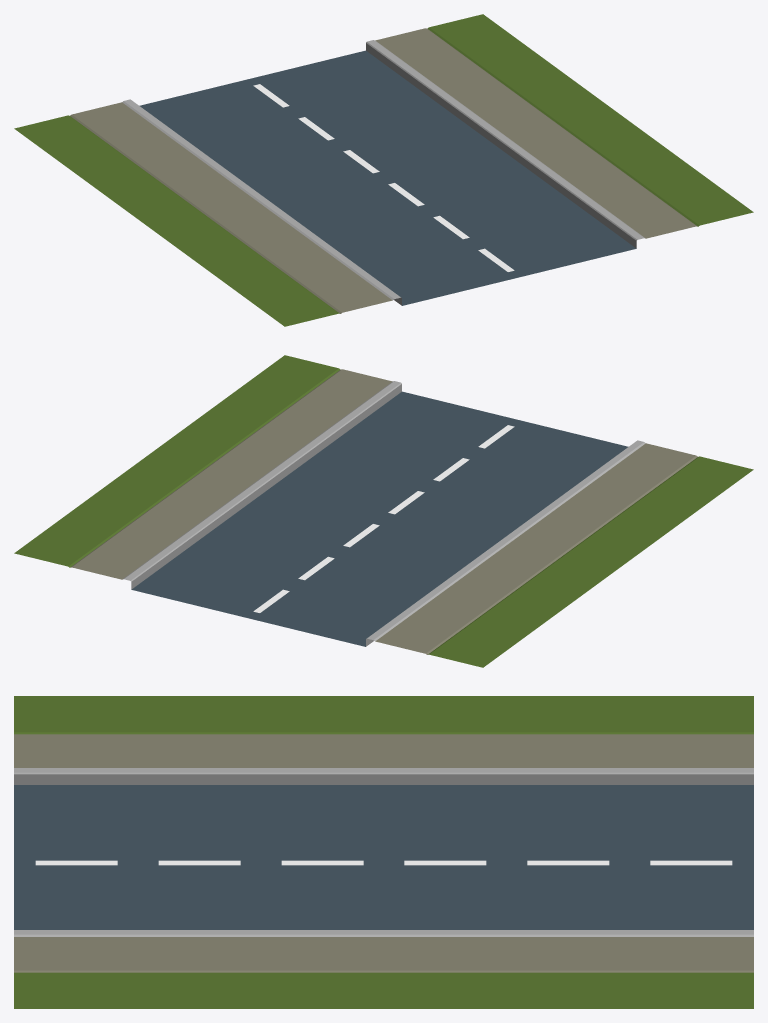
Rendered from Road Straight.fbx.
3 renders of one model, top to bottom at view 1: azimuth 30°, elevation 25°; view 2: azimuth 150°, elevation 25°; view 3: azimuth 270°, elevation 25°, orthographic. The views are drawn at different scales.
Visible parts, largest first — view 1: Circle.012; view 2: Circle.012; view 3: Circle.012.
Boxes of the visible parts, x1,y1,x2,y2 form: Circle.012: (14,14,753,326); Circle.012: (14,355,753,667); Circle.012: (14,696,753,1008).
Size of the model in its own units: 3.4 by 0.06 by 3.4.
